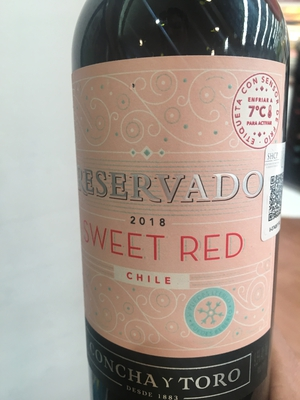reservado sweet red: (72, 4, 292, 400)
